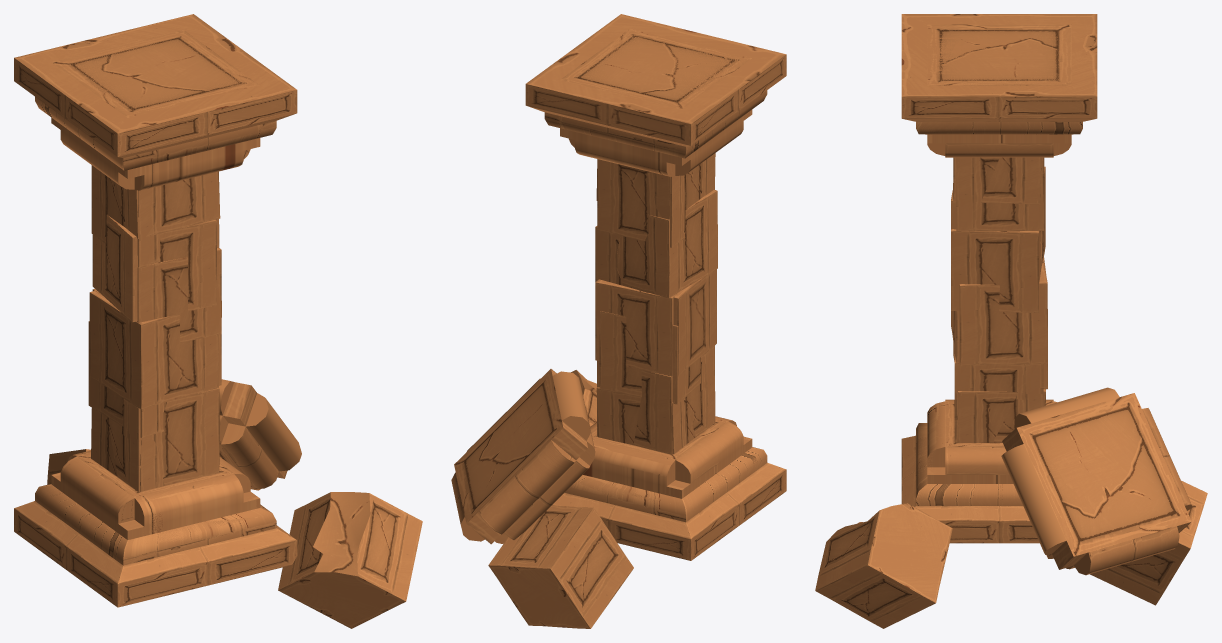
File: test pillar alts.fbx
3 views of the same model, side by side, from view 1: azimuth 30°, elevation 25°; view 2: azimuth 150°, elevation 25°; view 3: azimuth 270°, elevation 25° (orthographic). The views are drawn at different scales.
Visible parts, largest first — view 1: Pillar_TrimTest1, Pillar_TrimTest3, Pillar_TrimTest2; view 2: Pillar_TrimTest3, Pillar_TrimTest1, Pillar_TrimTest2; view 3: Pillar_TrimTest3, Pillar_TrimTest2, Pillar_TrimTest1.
Part boxes in pixels (<box>): Pillar_TrimTest1: <box>14,29,297,607</box>; Pillar_TrimTest3: <box>14,290,422,628</box>; Pillar_TrimTest2: <box>14,14,297,491</box>; Pillar_TrimTest3: <box>451,269,784,628</box>; Pillar_TrimTest1: <box>554,28,786,560</box>; Pillar_TrimTest2: <box>525,14,786,454</box>; Pillar_TrimTest3: <box>815,311,1207,628</box>; Pillar_TrimTest2: <box>901,14,1097,442</box>; Pillar_TrimTest1: <box>901,24,1071,543</box>.
Size of the model in its own units: 218 by 403 by 273.
Materials: 1 (1 with a texture image).
